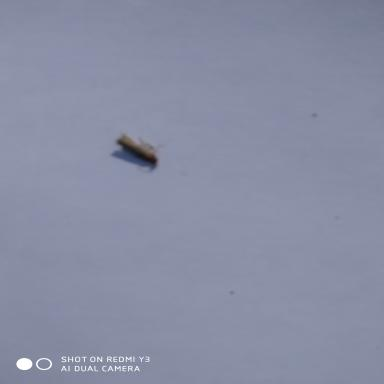pbw: (117, 130, 160, 166)
